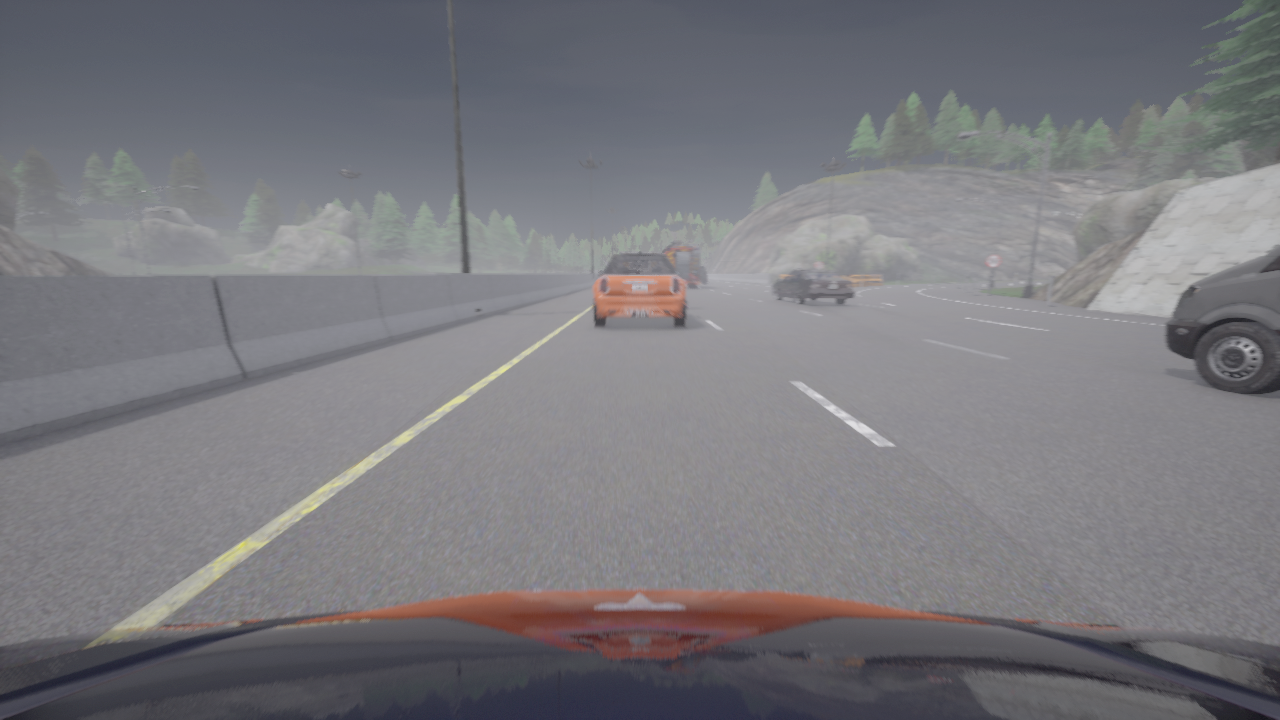cyclist: (0, 588, 1279, 719), (1166, 245, 1279, 393), (593, 252, 686, 326), (772, 269, 855, 304), (663, 241, 700, 287), (700, 267, 706, 283), (620, 251, 659, 253)
